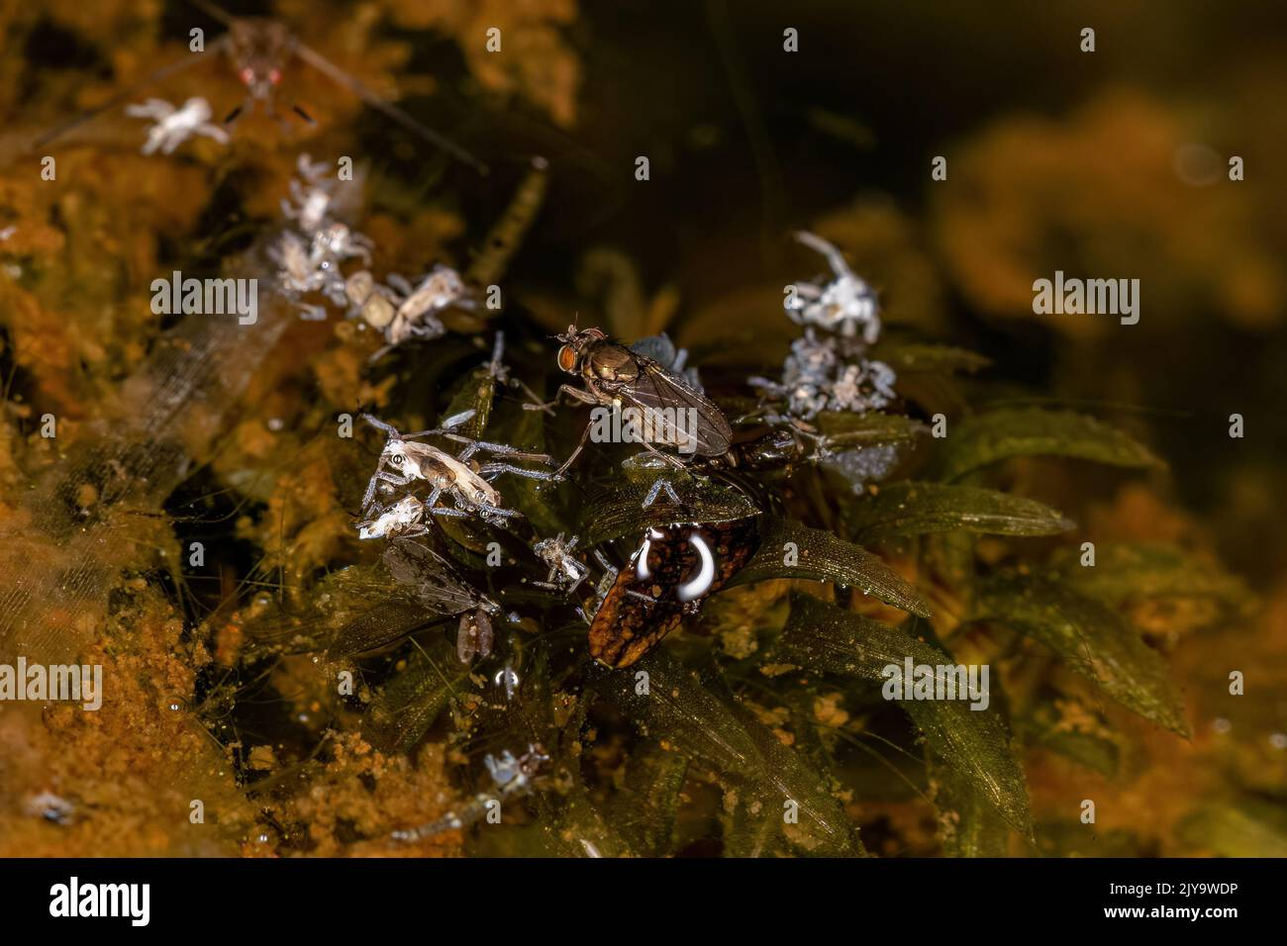Ephydridae: (525, 326, 746, 494), (356, 409, 525, 515), (537, 521, 606, 622)
